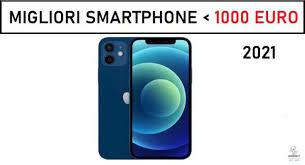Smartphone: (130, 37, 192, 160), (100, 37, 132, 159)
